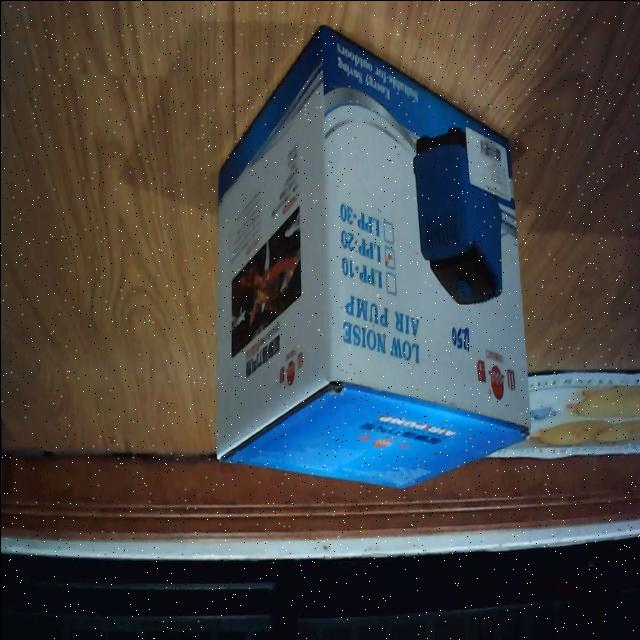YAMANO_LPP_20: (205, 14, 536, 508)
